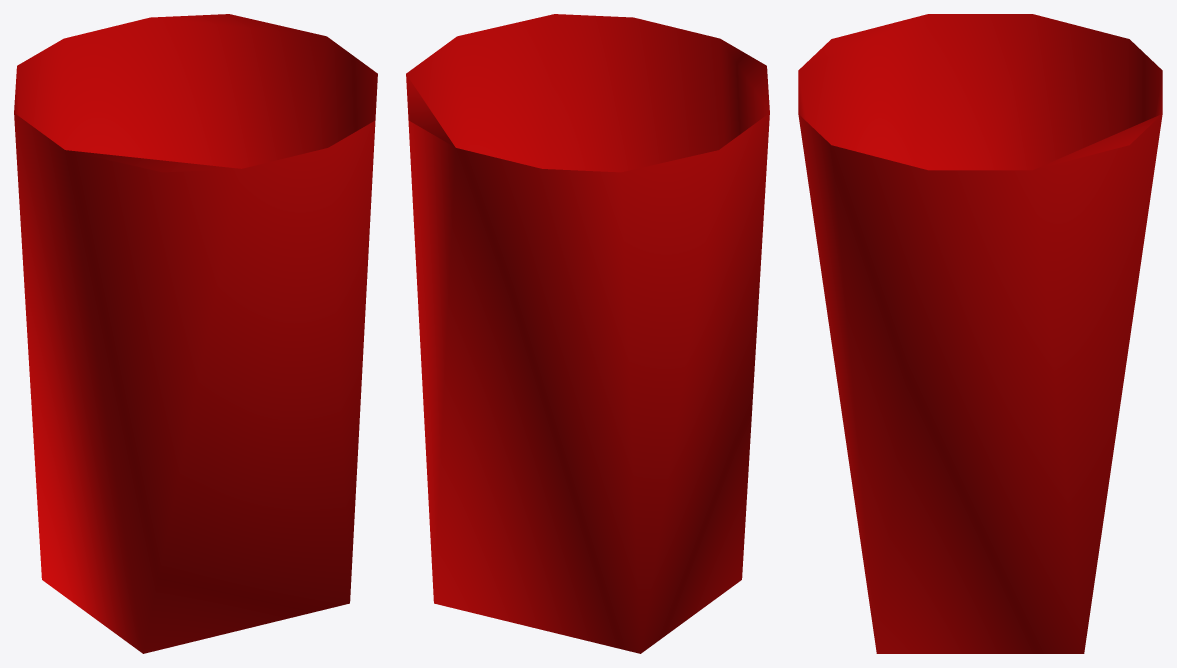
Rendered from glas_FBX.fbx.
The picture shows the model from 3 angles, left to right: view 1: azimuth 30°, elevation 25°; view 2: azimuth 150°, elevation 25°; view 3: azimuth 270°, elevation 25°; orthographic projection. The views are drawn at different scales.
Visible parts, largest first — view 1: pPlane4; view 2: pPlane4; view 3: pPlane4.
Boxes of the visible parts, left/top/right/bottom form: pPlane4: left=14, top=14, right=377, bottom=653; pPlane4: left=406, top=14, right=769, bottom=653; pPlane4: left=798, top=14, right=1162, bottom=653.
Bounding box in the file's own units: 0.1128 × 0.1717 × 0.1111.
